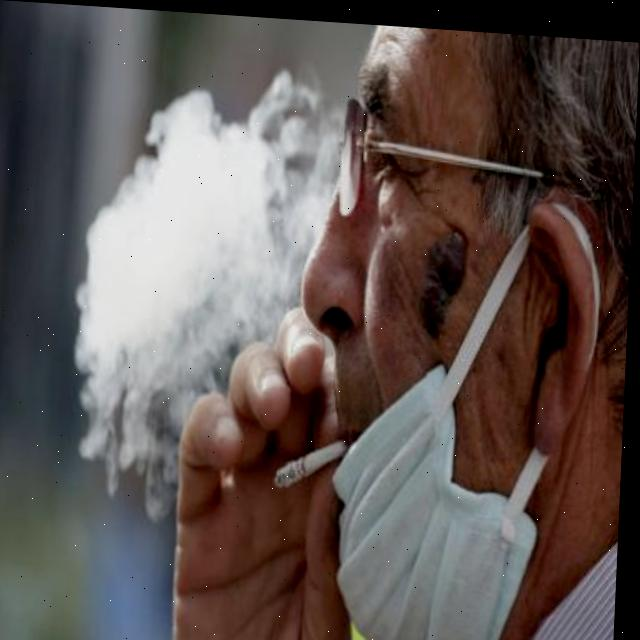cigarette: (279, 434, 348, 490)
